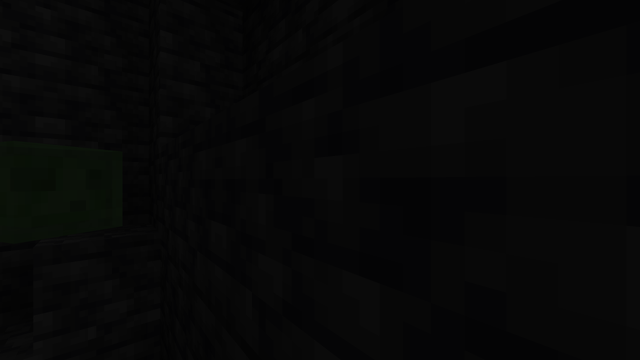slimes: (4, 137, 105, 241)
